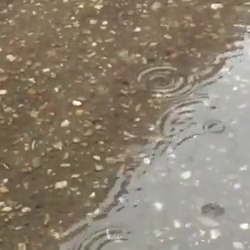drop: (136, 66, 193, 98), (77, 225, 138, 250), (160, 101, 202, 133), (202, 201, 223, 218), (203, 119, 225, 134)
